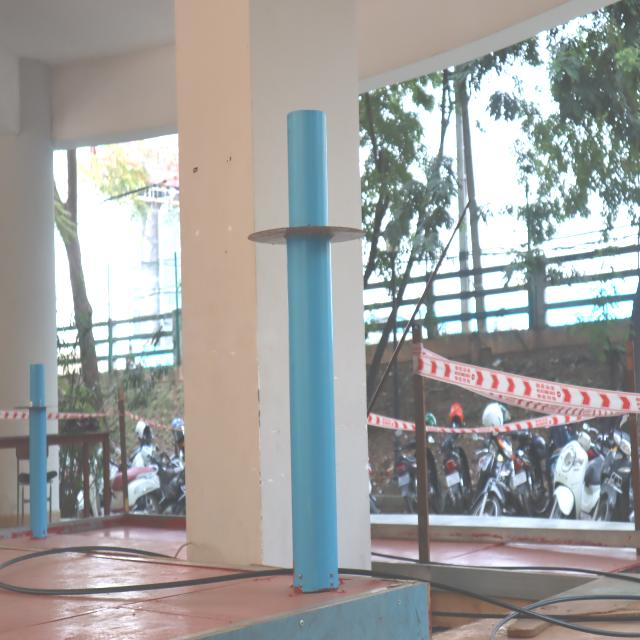pole: (248, 106, 366, 346), (16, 362, 61, 439)
